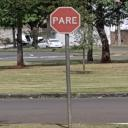Pare: (50, 6, 81, 35)
